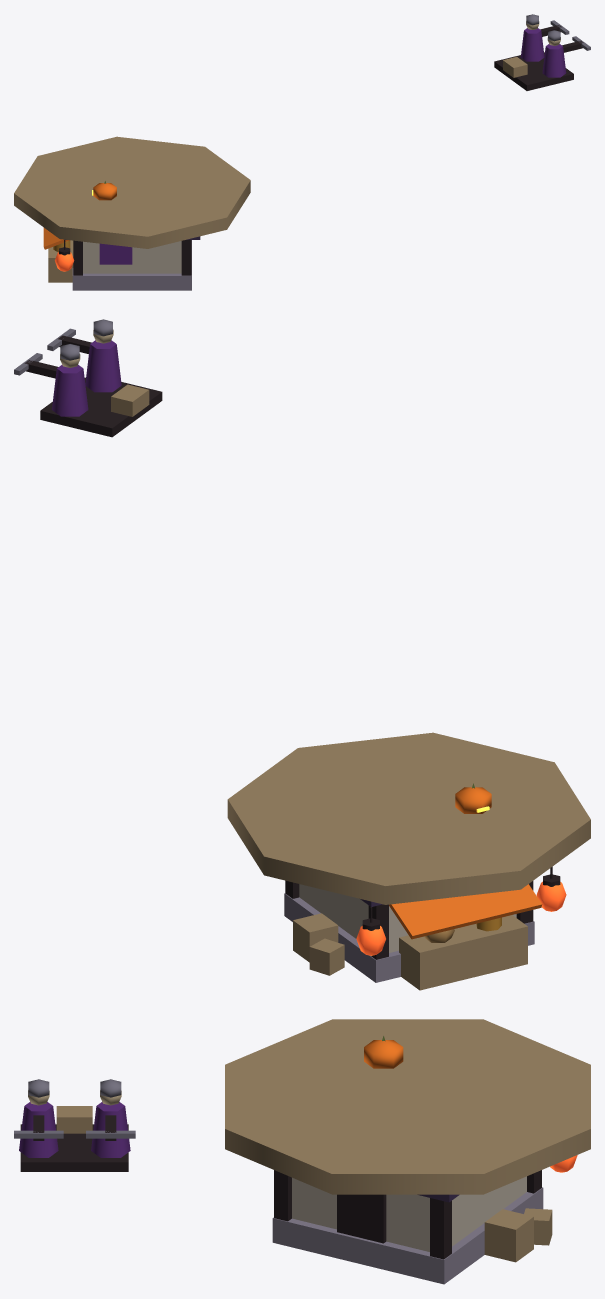
File: base_merchant_weapon_1.glb
The picture shows the model from 3 angles, top to bottom: view 1: azimuth 30°, elevation 25°; view 2: azimuth 150°, elevation 25°; view 3: azimuth 270°, elevation 25°; orthographic projection. The views are drawn at different scales.
Parts seen in each view (by area): view 1: tower_slot_1_plate, tower_slot_1_house, tower_slot_1_plinth, weapon_mount, crossbowman_l_body, crossbowman_r_body, tower_slot_1_banner, tower_slot_1_counter, bolt_crate, tower_slot_1_post_3, tower_slot_1_hw_jack_body; view 2: tower_slot_1_plate, tower_slot_1_counter, tower_slot_1_awning, weapon_mount, tower_slot_1_house, tower_slot_1_plinth, crossbowman_r_body, crossbowman_l_body, tower_slot_1_crate_0, tower_slot_1_crate_1, bolt_crate; view 3: tower_slot_1_plate, tower_slot_1_plinth, tower_slot_1_house, weapon_mount, tower_slot_1_door, tower_slot_1_crate_0, crossbowman_r_body, crossbowman_l_body, tower_slot_1_post_2, tower_slot_1_hw_jack_body, bolt_crate, tower_slot_1_post_3 (+5 smaller).
Part boxes in pixels (x1=…): tower_slot_1_plate: x1=14, y1=136, x2=250, y2=248; tower_slot_1_house: x1=83, y1=241, x2=181, y2=273; tower_slot_1_plinth: x1=72, y1=240, x2=191, y2=290; weapon_mount: x1=494, y1=52, x2=573, y2=90; crossbowman_l_body: x1=520, y1=28, x2=544, y2=61; crossbowman_r_body: x1=542, y1=44, x2=566, y2=77; tower_slot_1_banner: x1=99, y1=243, x2=132, y2=264; tower_slot_1_counter: x1=48, y1=240, x2=73, y2=282; bolt_crate: x1=503, y1=57, x2=527, y2=77; tower_slot_1_post_3: x1=181, y1=240, x2=191, y2=275; tower_slot_1_hw_jack_body: x1=93, y1=183, x2=116, y2=200; tower_slot_1_plate: x1=227, y1=732, x2=590, y2=904; tower_slot_1_counter: x1=399, y1=915, x2=527, y2=990; tower_slot_1_awning: x1=389, y1=884, x2=542, y2=939; weapon_mount: x1=40, y1=377, x2=162, y2=437; tower_slot_1_house: x1=299, y1=884, x2=516, y2=952; tower_slot_1_plinth: x1=284, y1=893, x2=534, y2=982; crossbowman_r_body: x1=85, y1=340, x2=121, y2=392; crossbowman_l_body: x1=52, y1=364, x2=88, y2=416; tower_slot_1_crate_0: x1=293, y1=913, x2=338, y2=962; tower_slot_1_crate_1: x1=309, y1=938, x2=344, y2=975; bolt_crate: x1=111, y1=384, x2=149, y2=416; tower_slot_1_plate: x1=225, y1=1019, x2=590, y2=1194; tower_slot_1_plinth: x1=272, y1=1187, x2=543, y2=1284; tower_slot_1_house: x1=292, y1=1176, x2=526, y2=1251; weapon_mount: x1=20, y1=1124, x2=128, y2=1171; tower_slot_1_door: x1=337, y1=1194, x2=386, y2=1243; tower_slot_1_crate_0: x1=484, y1=1209, x2=533, y2=1262; crossbowman_r_body: x1=19, y1=1102, x2=58, y2=1157; crossbowman_l_body: x1=91, y1=1102, x2=130, y2=1157; tower_slot_1_post_2: x1=430, y1=1198, x2=451, y2=1259; tower_slot_1_hw_jack_body: x1=364, y1=1040, x2=403, y2=1068; bolt_crate: x1=56, y1=1106, x2=92, y2=1133; tower_slot_1_post_3: x1=274, y1=1170, x2=291, y2=1221.
Bounding box in the file's own units: 0.9263 × 0.4889 × 0.6408.
